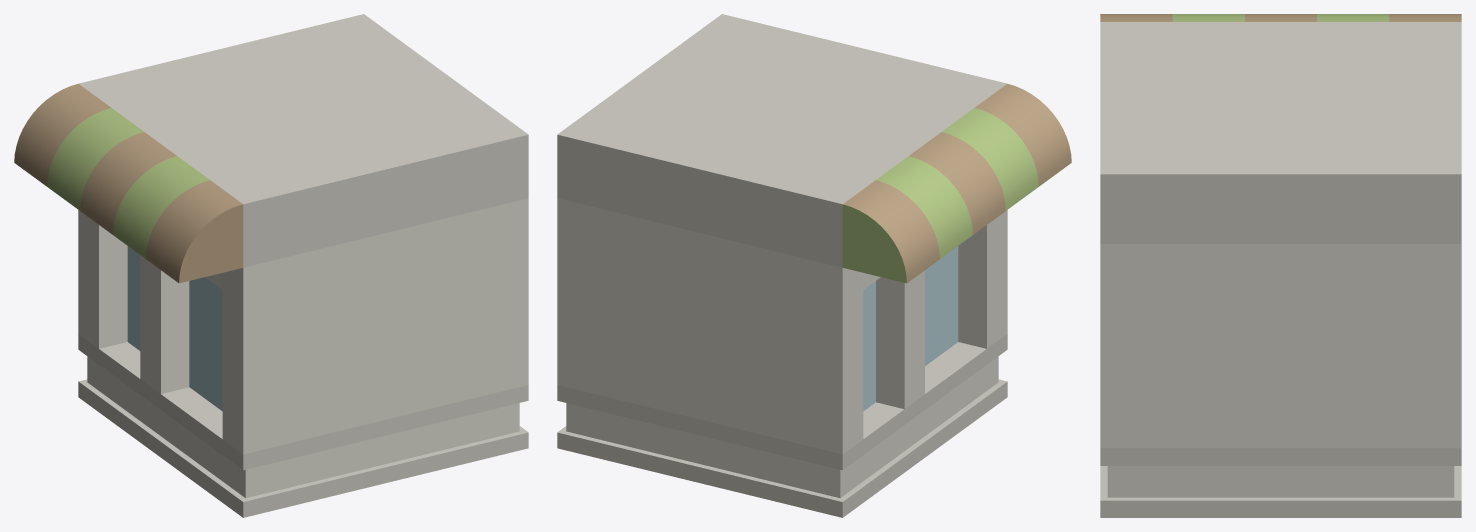
File: Supermarket.fbx
The picture shows the model from 3 angles, left to right: view 1: azimuth 30°, elevation 25°; view 2: azimuth 150°, elevation 25°; view 3: azimuth 270°, elevation 25°; orthographic projection. The views are drawn at different scales.
Visible parts, largest first — view 1: modularBuildings_003_polySurface1; view 2: modularBuildings_003_polySurface1; view 3: modularBuildings_003_polySurface1.
Boxes of the visible parts, box(x1,y1,x2,y2) form: modularBuildings_003_polySurface1: box(14, 14, 528, 517); modularBuildings_003_polySurface1: box(557, 14, 1071, 517); modularBuildings_003_polySurface1: box(1100, 14, 1461, 517).
Bounding box in the file's own units: 69.95 × 59.96 × 57.1.
